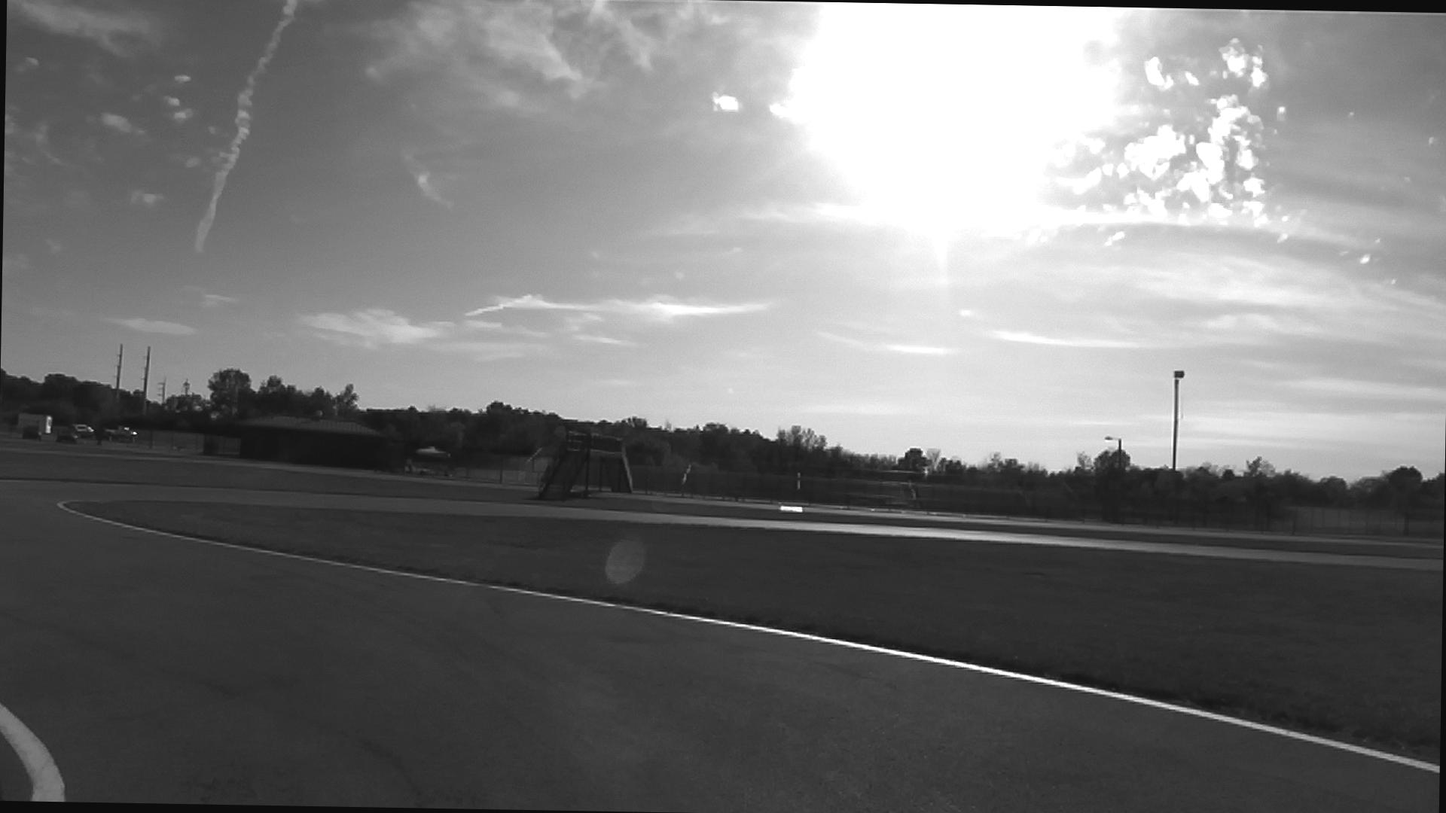white-line: (56, 501, 1440, 773), (0, 702, 64, 802)
